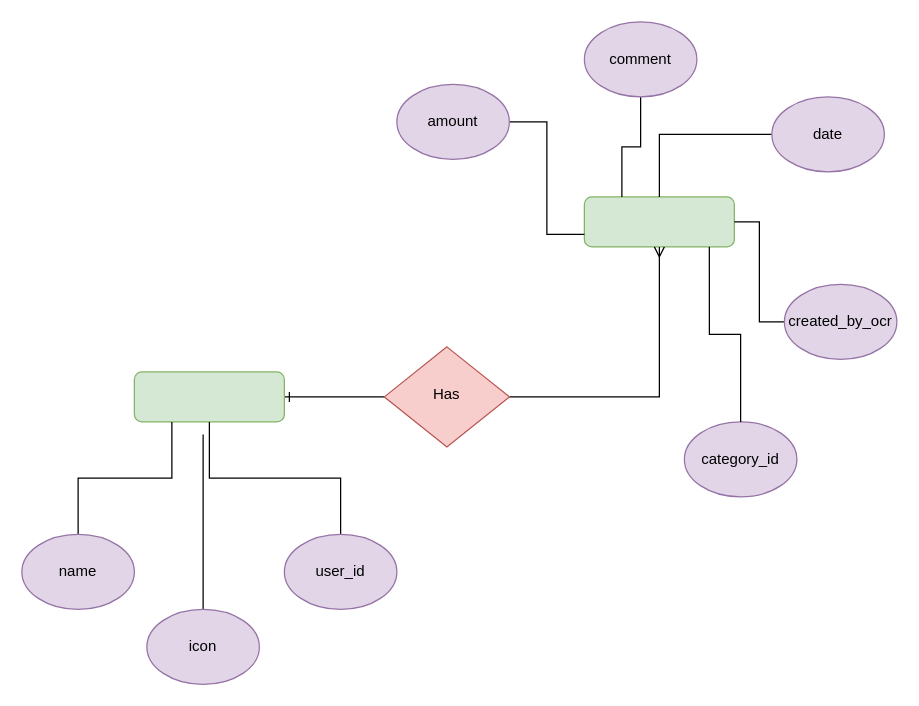
The diagram is 919 pixels wide and 706 high, and some of its shapes have lost their labels. The centre of each missing label's shape, as x and y in pixels:
Categories: (x=208, y=396)
Transactions: (x=658, y=221)
